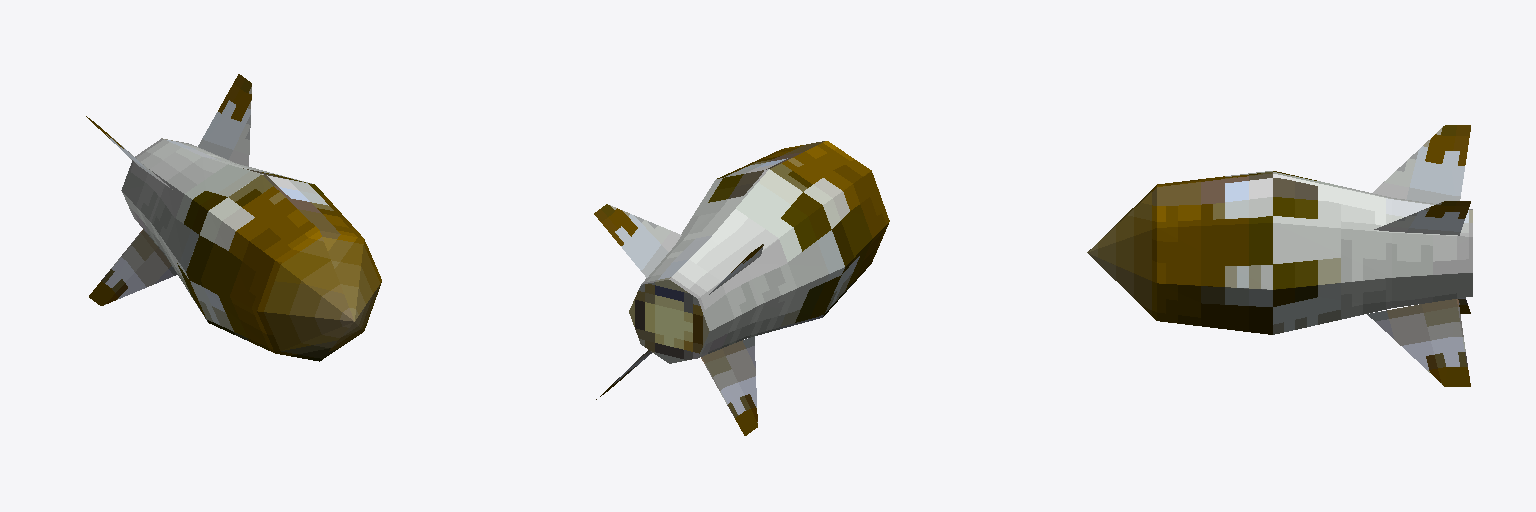
The picture shows the model from 3 angles: view 1: azimuth 30°, elevation 25°; view 2: azimuth 150°, elevation 25°; view 3: azimuth 270°, elevation 25°; orthographic projection.
Parts seen in each view (by area): view 1: DUMMY; view 2: DUMMY; view 3: DUMMY.
Part boxes in pixels (x1,y1,x2,y2): DUMMY: (86,74,381,361); DUMMY: (594,141,889,435); DUMMY: (1087,125,1472,386).
Bounding box in the file's own units: 0.381 × 0.432 × 0.81.
Materials: 1 (1 with a texture image).